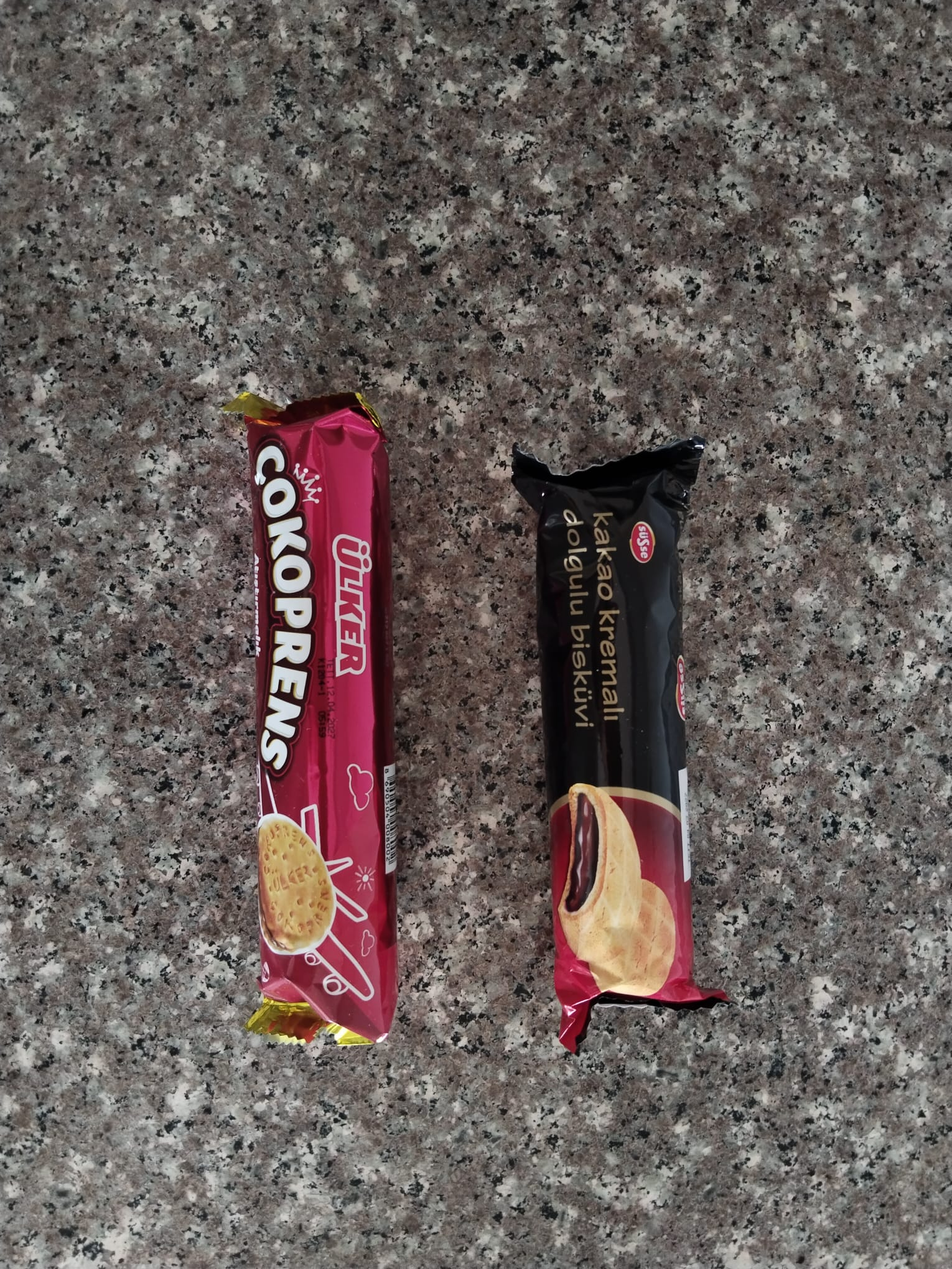susse_biskuvi: (515, 442, 725, 1049)
ulker_cokoprens_biskuvi: (235, 393, 399, 1046)
